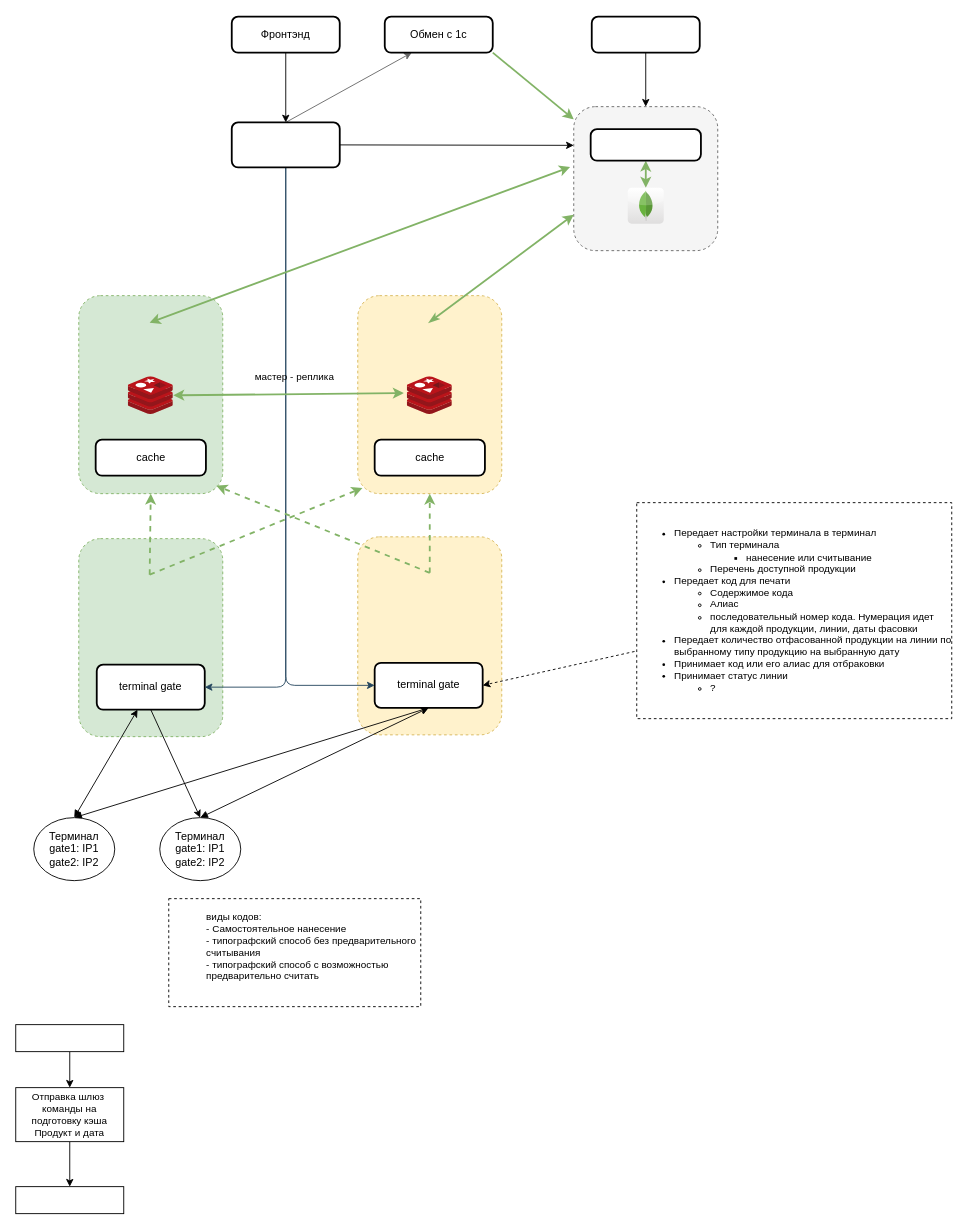
Image size: 968x1229. Some labels were removed from this diagram. The box of each missing label's shape, as (x1, y1, x2, y2) in pixels:
config manager: (230, 121, 340, 168)
storage API: (589, 128, 701, 161)
Выбран продукт и дата: (15, 1024, 124, 1052)
Телеграм: (590, 15, 700, 53)
Шлюз: (15, 1186, 124, 1214)
